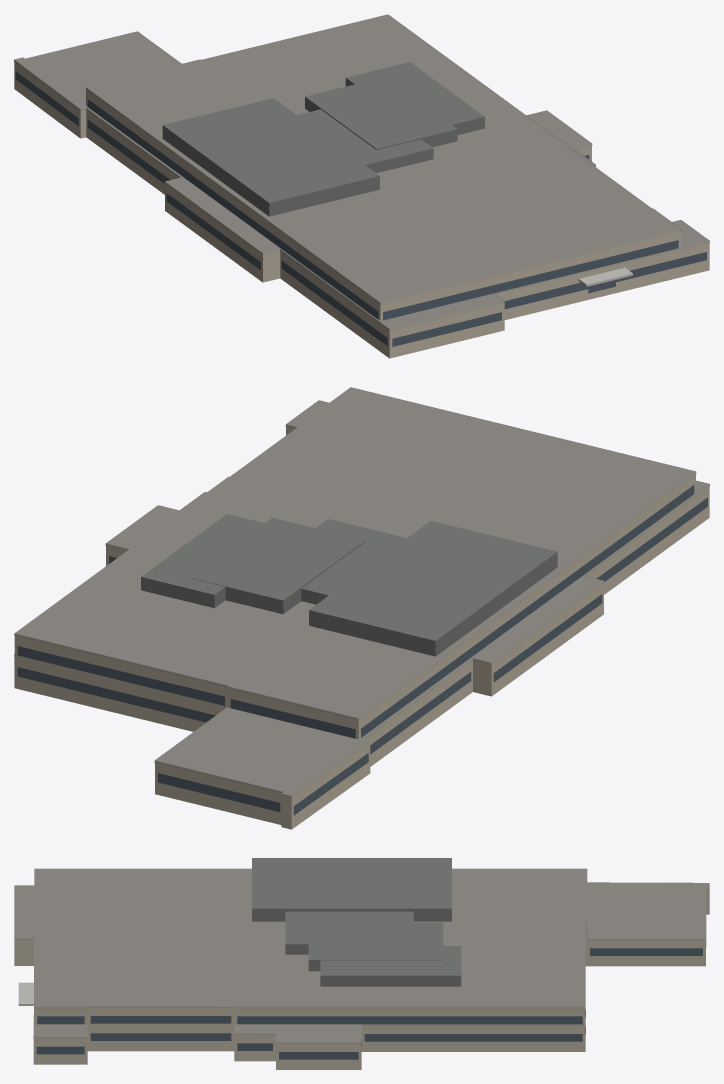
File: central-mortgage-co-office.glb
The picture shows the model from 3 angles, top to bottom: view 1: azimuth 30°, elevation 25°; view 2: azimuth 150°, elevation 25°; view 3: azimuth 270°, elevation 25°; orthographic projection. The views are drawn at different scales.
Visible parts, largest first — view 1: central_mortgage_co_office; view 2: central_mortgage_co_office; view 3: central_mortgage_co_office.
Part boxes in pixels (x1=…): central_mortgage_co_office: x1=14, y1=14, x2=709, y2=358; central_mortgage_co_office: x1=14, y1=387, x2=709, y2=829; central_mortgage_co_office: x1=14, y1=858, x2=709, y2=1069.
Bounding box in the file's own units: 77.67 × 12.7 × 139.
